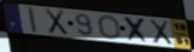9: (74, 13, 95, 37)
I: (26, 6, 39, 34)
O: (98, 14, 123, 41)
X: (123, 16, 152, 45), (43, 8, 70, 36), (148, 18, 174, 46)
